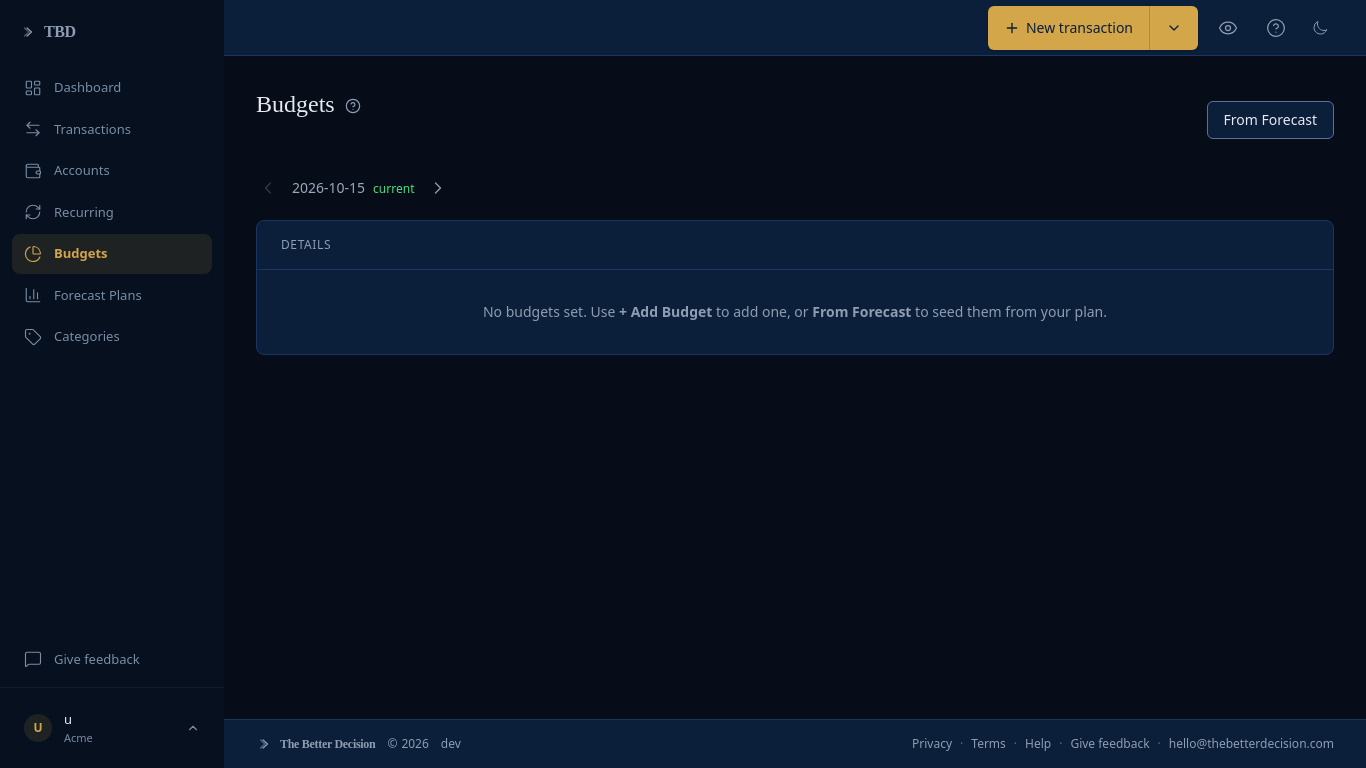
Test: /budgets — From Forecast affordances (TBD-197 PR 2) › control: the next-period seed panel keeps From forecast when forecast is true
expect the heading "Budgets" is shown: met, box 256,88 -> 335,120
Click the button named "Next period" at (438, 188), box 426,176 -> 450,200
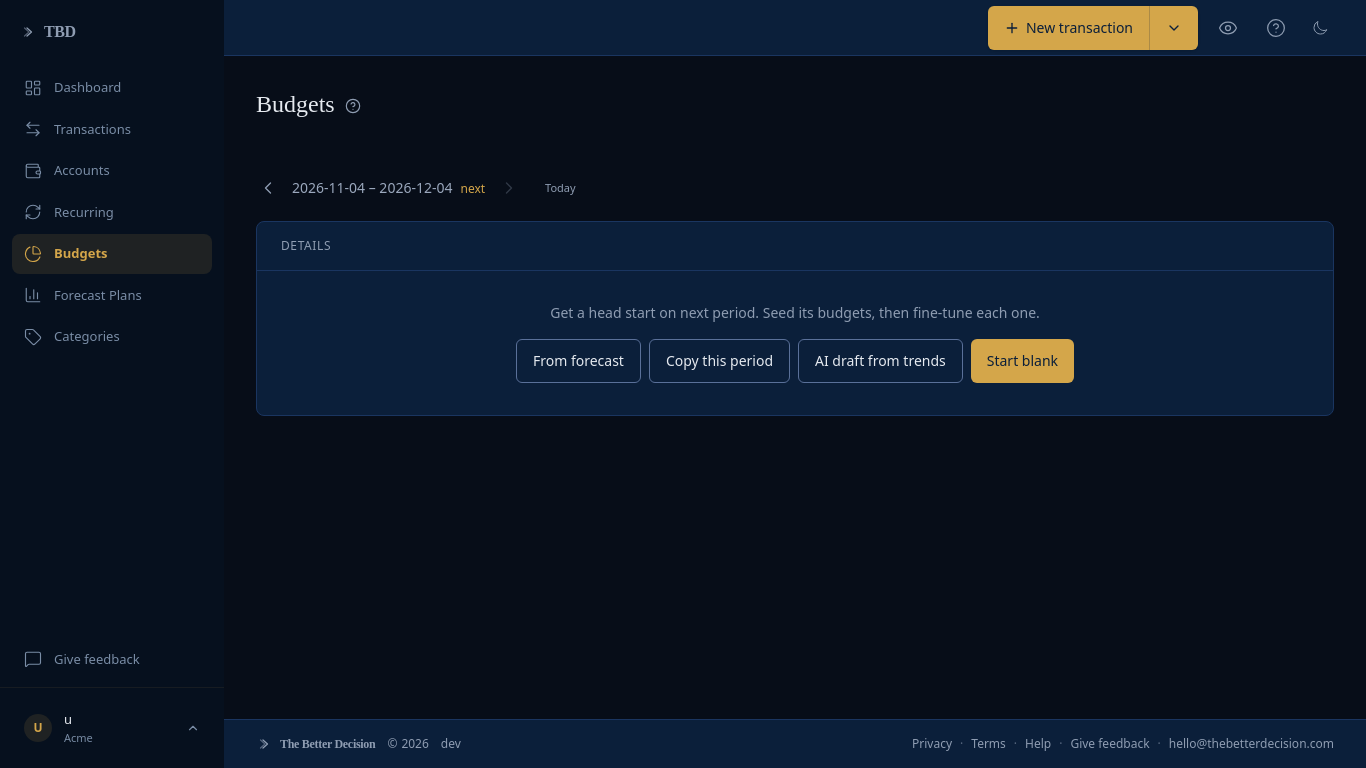
expect the element with test id "next-period-seed" shows "From forecast": met, box 516,338 -> 641,382
